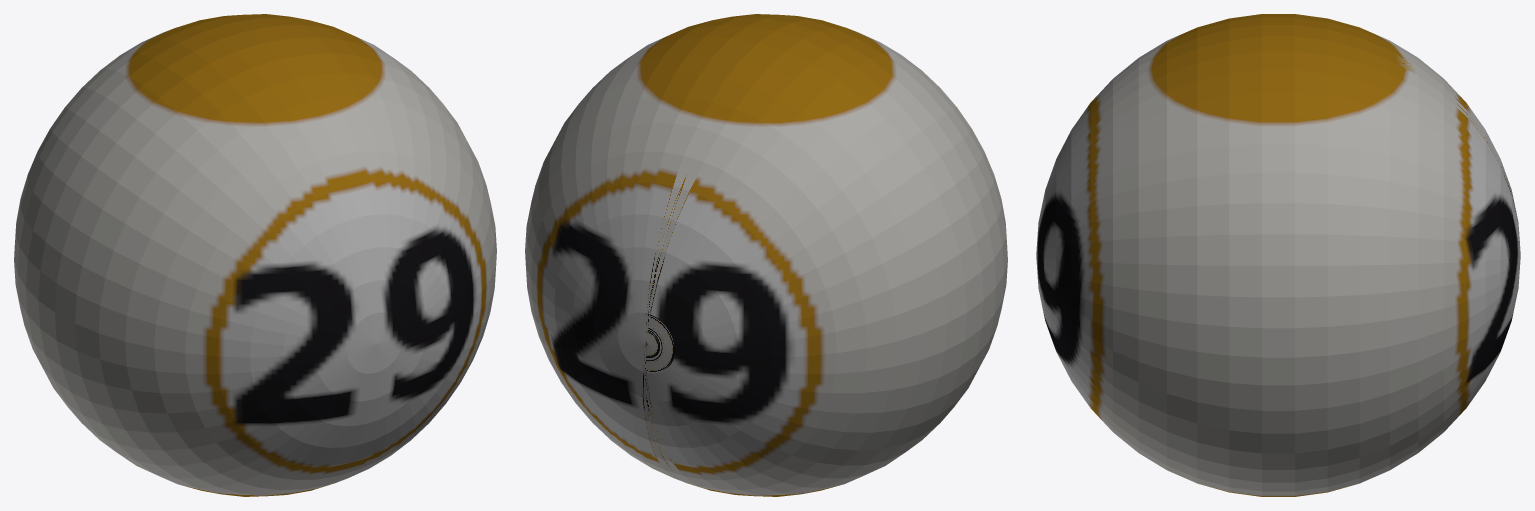
The picture shows the model from 3 angles, left to right: view 1: azimuth 30°, elevation 25°; view 2: azimuth 150°, elevation 25°; view 3: azimuth 270°, elevation 25°; orthographic projection.
Visible parts, largest first — view 1: geometry_0; view 2: geometry_0; view 3: geometry_0.
Part boxes in pixels (x1,y1,x2,y2): geometry_0: [14, 14, 496, 496]; geometry_0: [525, 14, 1007, 496]; geometry_0: [1036, 14, 1520, 496].
Size of the model in its own units: 0.0599 by 0.0599 by 0.06.
Materials: 1 (1 with a texture image).
